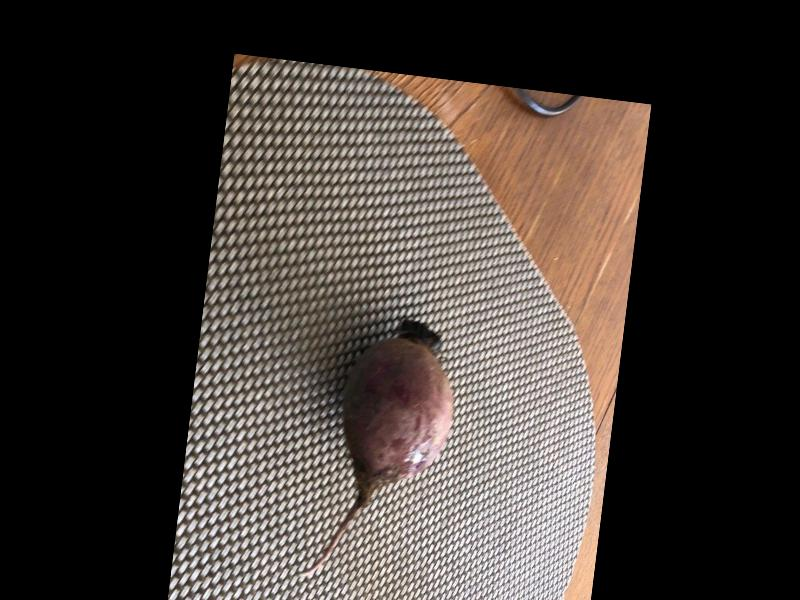Beet: (297, 309, 463, 592)
